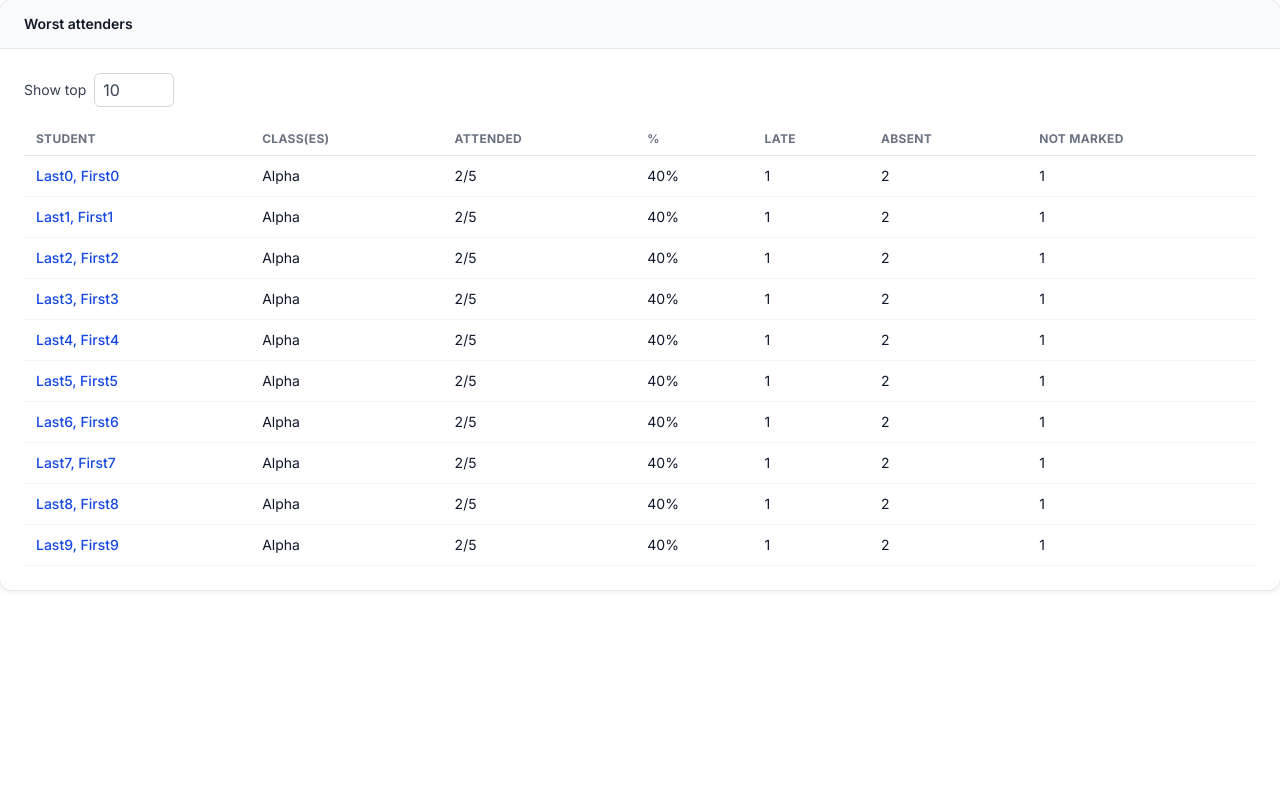
WorstAttendersCard › shows the typed count
Replace the text in the number field labelled "Show top" with "3" at (134, 90), box [94,73,174,107]
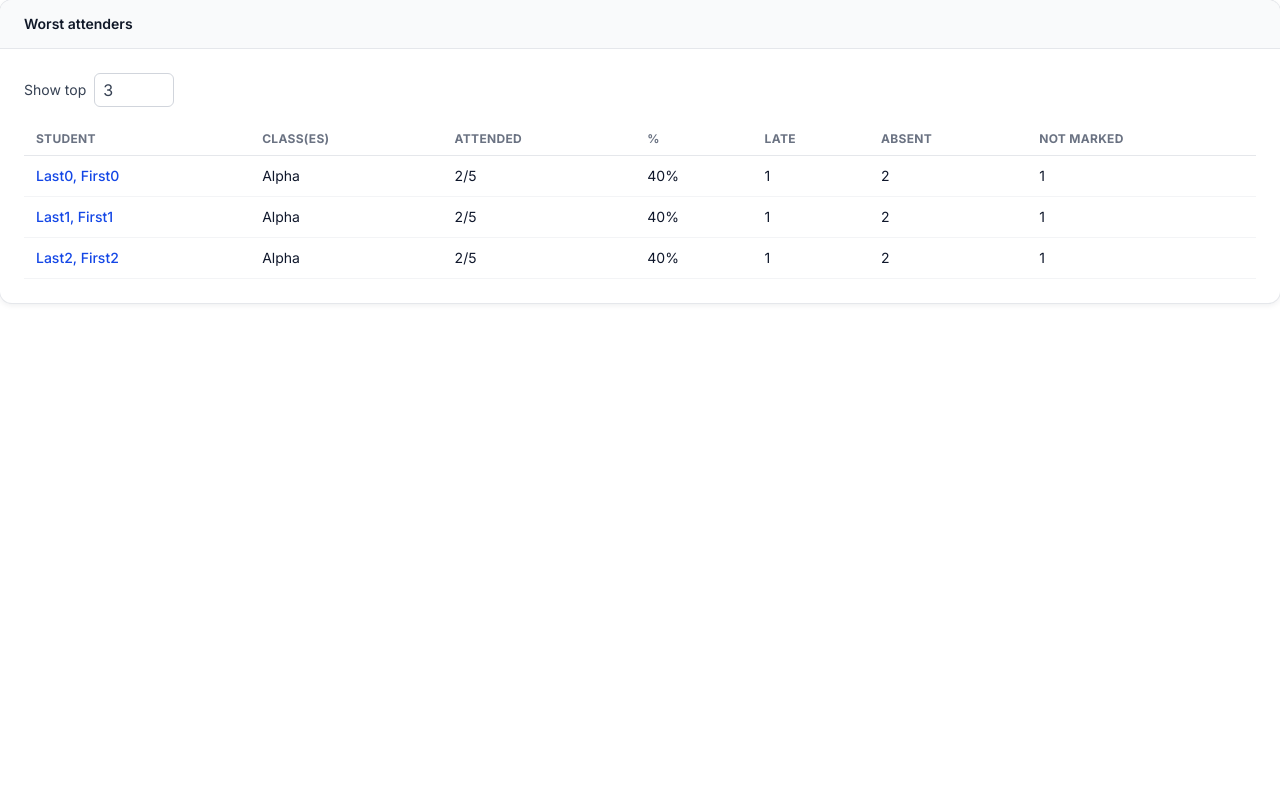
Check: the number of links is 3, box [36,167,119,184]; [36,208,113,225]; [36,249,119,266]
